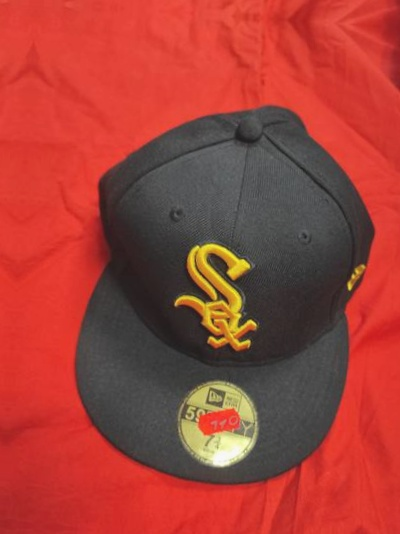Hat: (39, 77, 396, 493)
